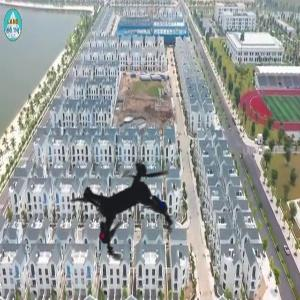drone: (38, 111, 222, 295)
